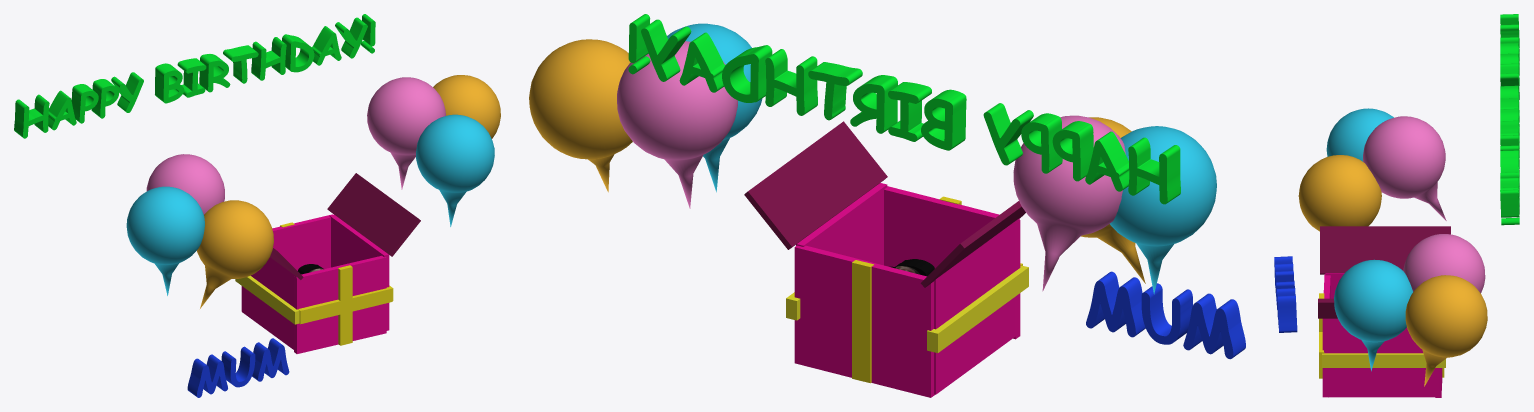
The model's file is waa.gltf.
3 views of the same model, side by side, from view 1: azimuth 30°, elevation 25°; view 2: azimuth 150°, elevation 25°; view 3: azimuth 270°, elevation 25° (orthographic). The views are drawn at different scales.
Visible parts, largest first — view 1: Cube, Text, blu2, blu1, yell1, pur2, Text.001, pur1, yell2; view 2: Cube, Text, yell2, pur2, blu1, pur1, Text.001, blu2, yell1; view 3: Cube, yell2, pur1, blu2, yell1, Text, pur2, blu1, Text.001.
Boxes of the visible parts, <box> form: Cube: <box>235,173,420,353</box>; Text: <box>14,14,375,138</box>; blu2: <box>416,114,494,226</box>; blu1: <box>126,186,204,295</box>; yell1: <box>197,200,273,308</box>; pur2: <box>367,77,445,189</box>; Text.001: <box>187,338,289,397</box>; pur1: <box>146,154,224,214</box>; yell2: <box>433,75,500,138</box>; Cube: <box>744,121,1028,397</box>; Text: <box>628,14,1180,204</box>; yell2: <box>529,39,632,192</box>; pur2: <box>617,41,737,208</box>; blu1: <box>1110,126,1216,294</box>; pur1: <box>1013,115,1125,291</box>; Text.001: <box>1086,271,1245,359</box>; blu2: <box>667,23,762,192</box>; yell1: <box>1081,117,1145,283</box>; Cube: <box>1318,226,1450,397</box>; yell2: <box>1405,275,1487,386</box>; pur1: <box>1363,116,1446,220</box>; blu2: <box>1334,259,1412,371</box>; yell1: <box>1298,155,1381,231</box>; Text: <box>1500,14,1519,225</box>; pur2: <box>1403,234,1485,293</box>; blu1: <box>1326,108,1393,161</box>; Text.001: <box>1274,256,1297,332</box>.
Size of the model in its own units: 8.24 by 4.11 by 3.75.
12 materials, 3 textured.
